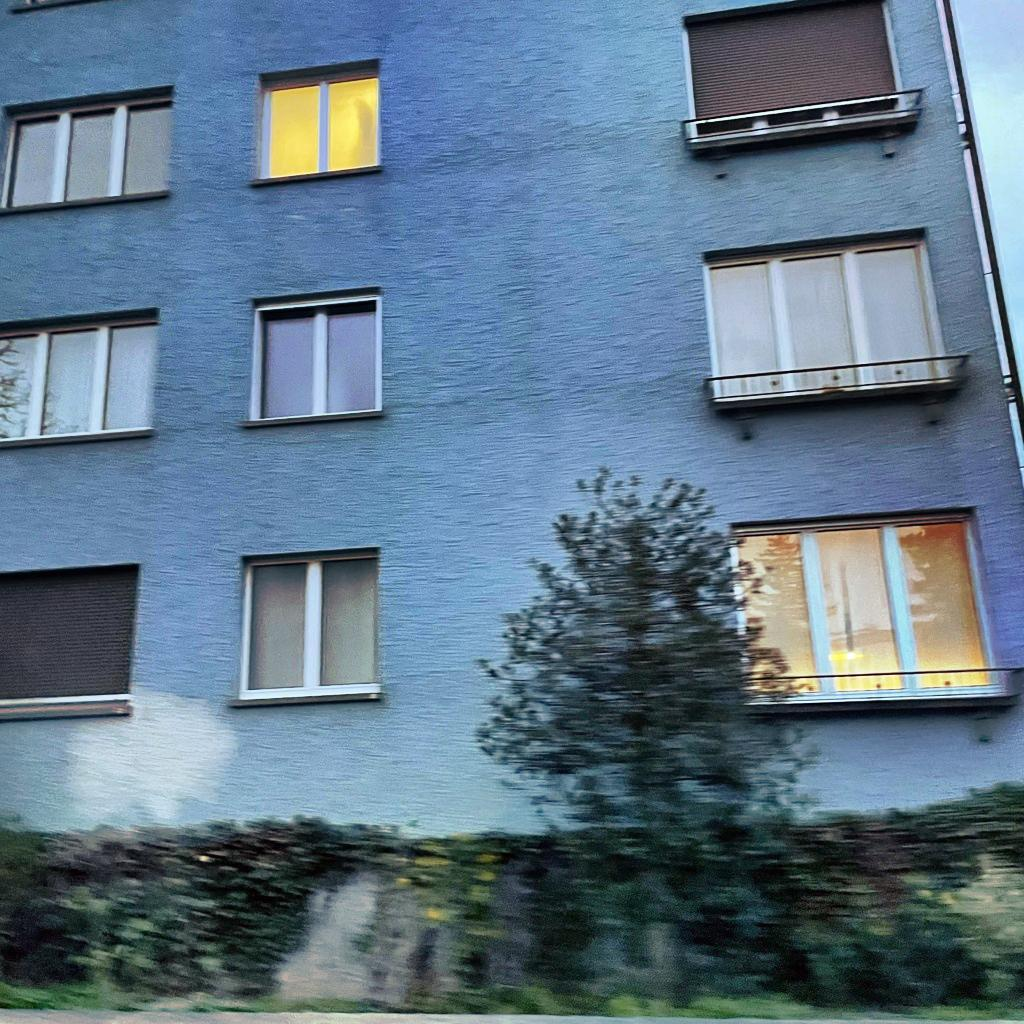balcony-fence: (705, 353, 970, 413), (680, 88, 922, 152), (733, 665, 1023, 718)
facade: (0, 0, 1024, 831)
vegetation: (0, 469, 1024, 1022)
window: (730, 514, 1003, 701), (703, 236, 953, 401), (683, 0, 905, 142), (240, 549, 380, 698), (0, 316, 156, 443), (0, 95, 173, 209), (0, 568, 140, 707), (249, 290, 382, 420), (258, 64, 379, 180)
